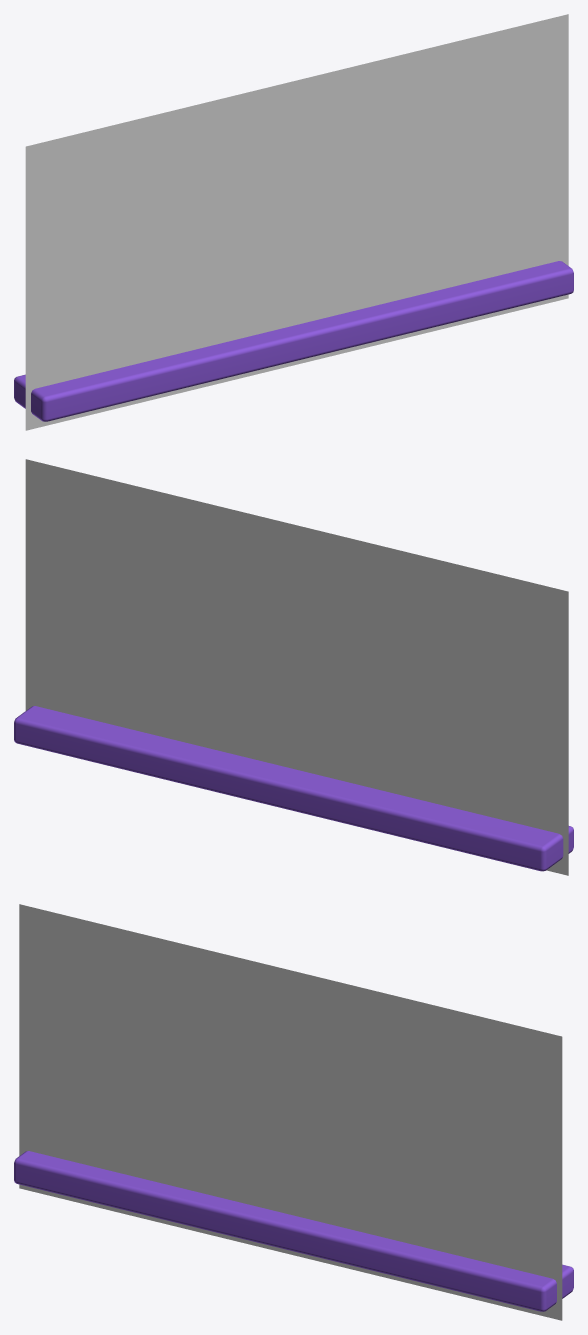
File: furn_prize_shelf.glb
The picture shows the model from 3 angles, top to bottom: view 1: azimuth 30°, elevation 25°; view 2: azimuth 150°, elevation 25°; view 3: azimuth 330°, elevation 25°; orthographic projection.
Parts seen in each view (by area): view 1: furn_prize_shelf_pic, furn_prize_shelf_main; view 2: furn_prize_shelf_pic, furn_prize_shelf_main; view 3: furn_prize_shelf_pic, furn_prize_shelf_main.
Part boxes in pixels (bbox=[...]): furn_prize_shelf_pic: bbox=[25, 14, 568, 430]; furn_prize_shelf_main: bbox=[14, 261, 573, 421]; furn_prize_shelf_pic: bbox=[25, 459, 568, 875]; furn_prize_shelf_main: bbox=[14, 706, 573, 871]; furn_prize_shelf_pic: bbox=[19, 904, 562, 1320]; furn_prize_shelf_main: bbox=[14, 1151, 573, 1311].
Size of the model in its own units: 2 by 1 by 0.2.
